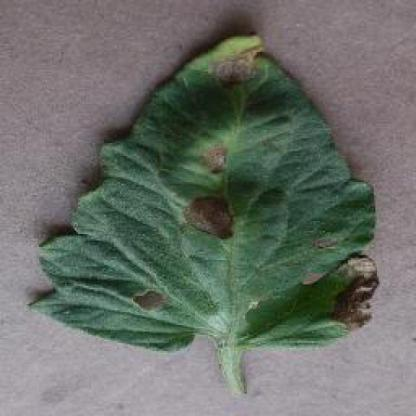Tomato_Blight: (27, 35, 376, 351)
